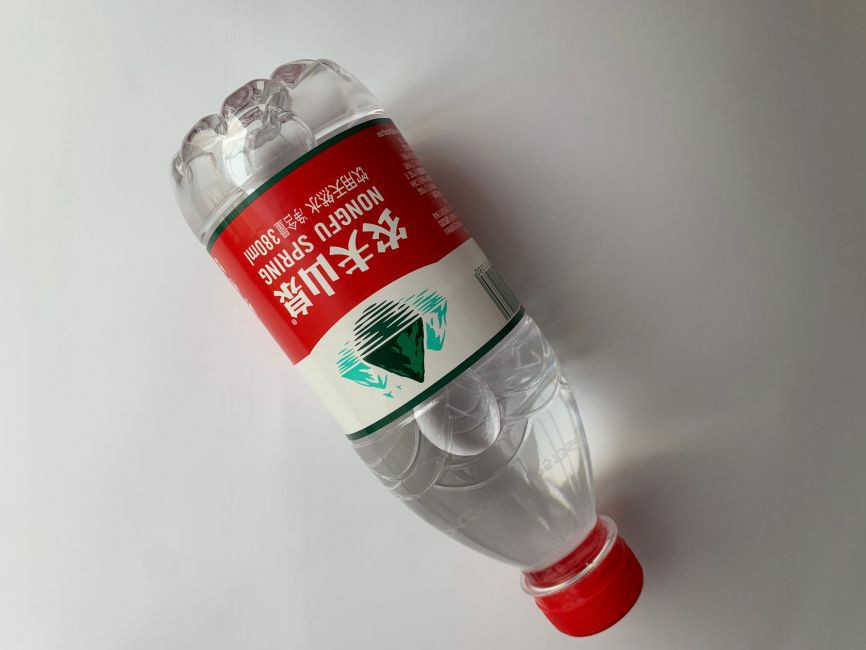bottle: (162, 55, 649, 639)
